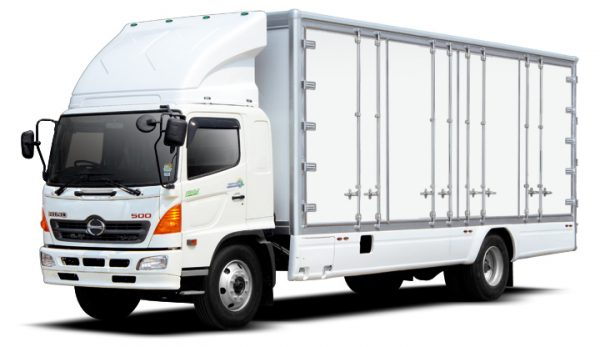truck: (41, 8, 579, 330)
